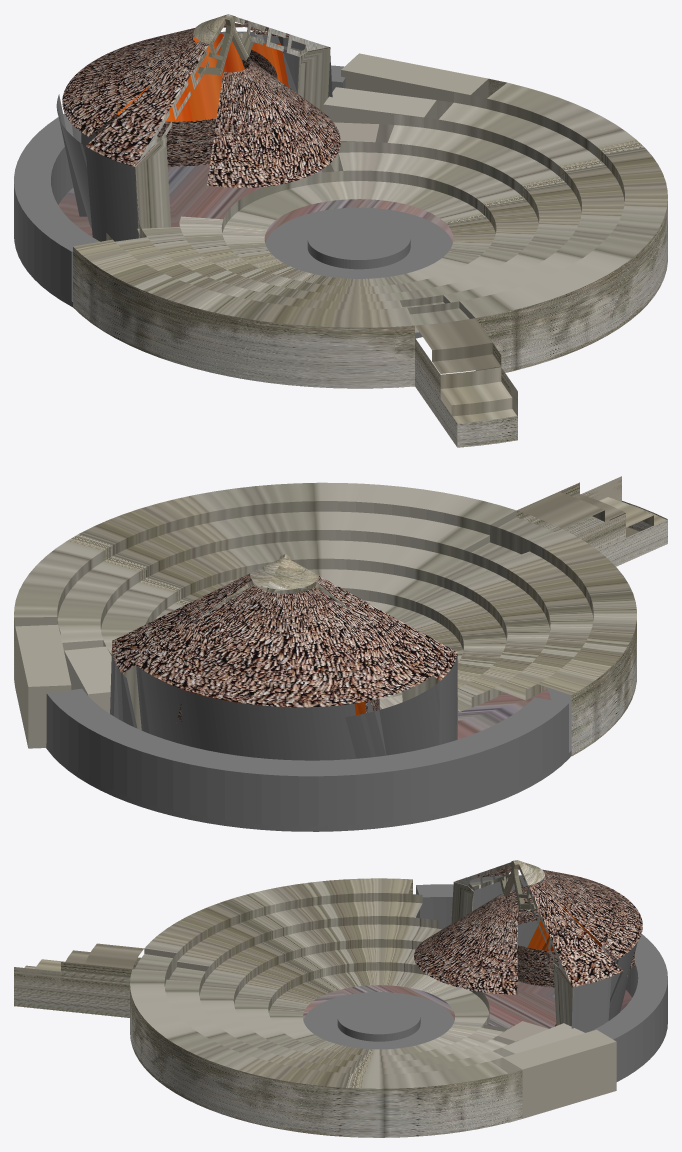
The model's file is palace.fbx.
The picture shows the model from 3 angles, top to bottom: view 1: azimuth 30°, elevation 25°; view 2: azimuth 150°, elevation 25°; view 3: azimuth 270°, elevation 25°; orthographic projection. The views are drawn at different scales.
Visible parts, largest first — view 1: Cylinder001, Cylinder002, small roof, frontwall, circle, roof, wall-downsmall001, to paint iside wall, ceiling, wall-downsmall, wall-down; view 2: Cylinder001, Cylinder002, roof, behind to paint iside wall001, frontwall, wall-down, wall-downsmall, wall-downsmall001; view 3: Cylinder001, Cylinder002, small roof, circle, frontwall, roof, wall-downsmall001, ceiling, wall-downsmall, wall-down, behind to paint iside wall001, to paint iside wall.
Part boxes in pixels (box(x1,y1,x2,y2)): Cylinder001: box(73, 53, 667, 447); Cylinder002: box(14, 65, 453, 338); small roof: box(207, 58, 340, 187); frontwall: box(114, 14, 330, 238); circle: box(265, 207, 452, 278); roof: box(62, 23, 246, 137); wall-downsmall001: box(85, 34, 332, 241); to paint iside wall: box(81, 33, 288, 165); ceiling: box(95, 35, 277, 166); wall-downsmall: box(85, 30, 329, 166); wall-down: box(56, 34, 257, 228); Cylinder001: box(14, 476, 667, 756); Cylinder002: box(46, 688, 571, 831); roof: box(132, 584, 437, 707); behind to paint iside wall001: box(136, 665, 356, 760); frontwall: box(112, 554, 457, 739); wall-down: box(123, 675, 439, 758); wall-downsmall: box(112, 624, 457, 680); wall-downsmall001: box(110, 650, 457, 744); Cylinder001: box(14, 878, 616, 1137); Cylinder002: box(303, 884, 667, 1081); small roof: box(414, 894, 517, 994); circle: box(303, 992, 454, 1049); frontwall: box(451, 860, 601, 1026); roof: box(518, 867, 642, 959); wall-downsmall001: box(451, 875, 622, 1032); ceiling: box(497, 886, 634, 987); wall-downsmall: box(454, 872, 622, 987); wall-down: box(500, 875, 628, 1020); behind to paint iside wall001: box(609, 942, 637, 1020); to paint iside wall: box(527, 899, 620, 1026).
Size of the model in its own units: 614 by 244 by 806.
8 materials, 4 textured.
